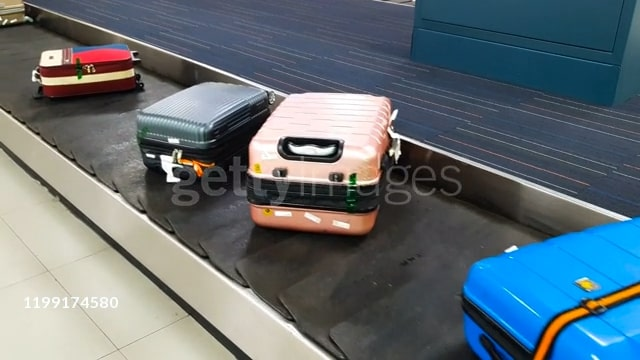baggage: (449, 225, 640, 355), (245, 89, 402, 243), (134, 78, 273, 181), (31, 40, 148, 107)
